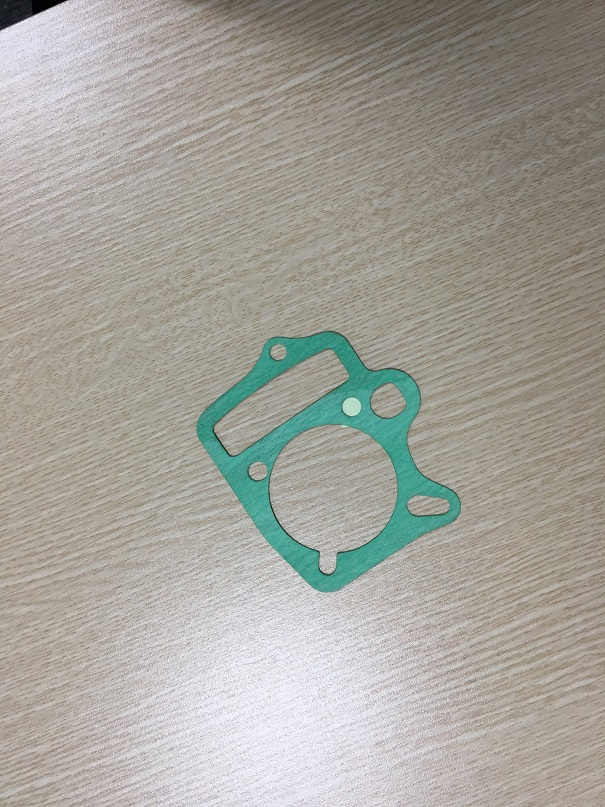type4: (193, 322, 469, 599)
